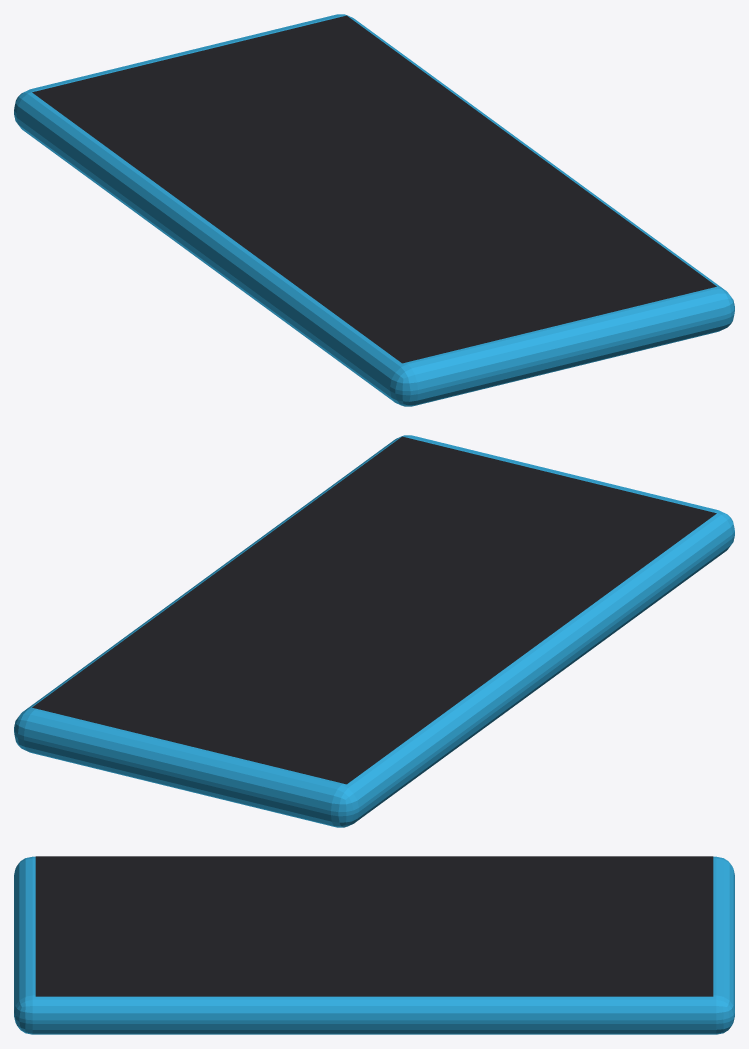
Rendered from Phone_655.glb.
3 views of the same model, one above another, from view 1: azimuth 30°, elevation 25°; view 2: azimuth 150°, elevation 25°; view 3: azimuth 270°, elevation 25° (orthographic). The views are drawn at different scales.
Parts seen in each view (by area): view 1: Phone_Screen, Phone_Body; view 2: Phone_Screen, Phone_Body; view 3: Phone_Screen, Phone_Body.
Part boxes in pixels (left/top/right/bottom): Phone_Screen: left=32, top=15, right=716, bottom=363; Phone_Body: left=14, top=14, right=734, bottom=406; Phone_Screen: left=32, top=436, right=716, bottom=784; Phone_Body: left=14, top=435, right=734, bottom=827; Phone_Screen: left=35, top=856, right=713, bottom=996; Phone_Body: left=14, top=856, right=734, bottom=1034.
Size of the model in its own units: 0.0785 by 0.0091 by 0.1565.
